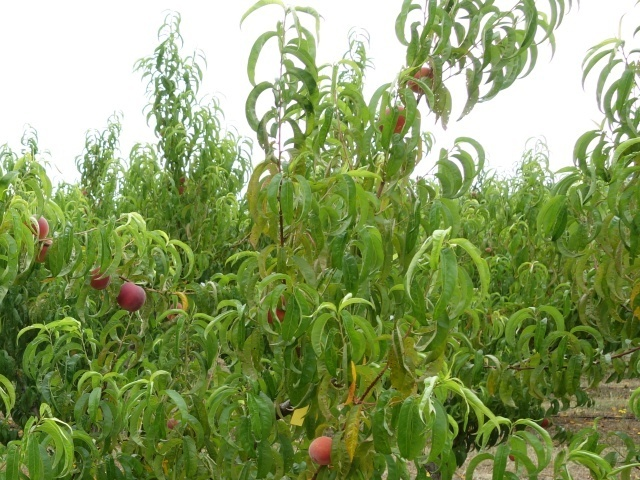peach: (113, 274, 149, 315), (305, 432, 340, 470), (403, 63, 439, 96), (381, 101, 414, 134), (85, 261, 115, 293), (263, 293, 289, 329), (25, 210, 51, 245), (33, 234, 57, 266)
